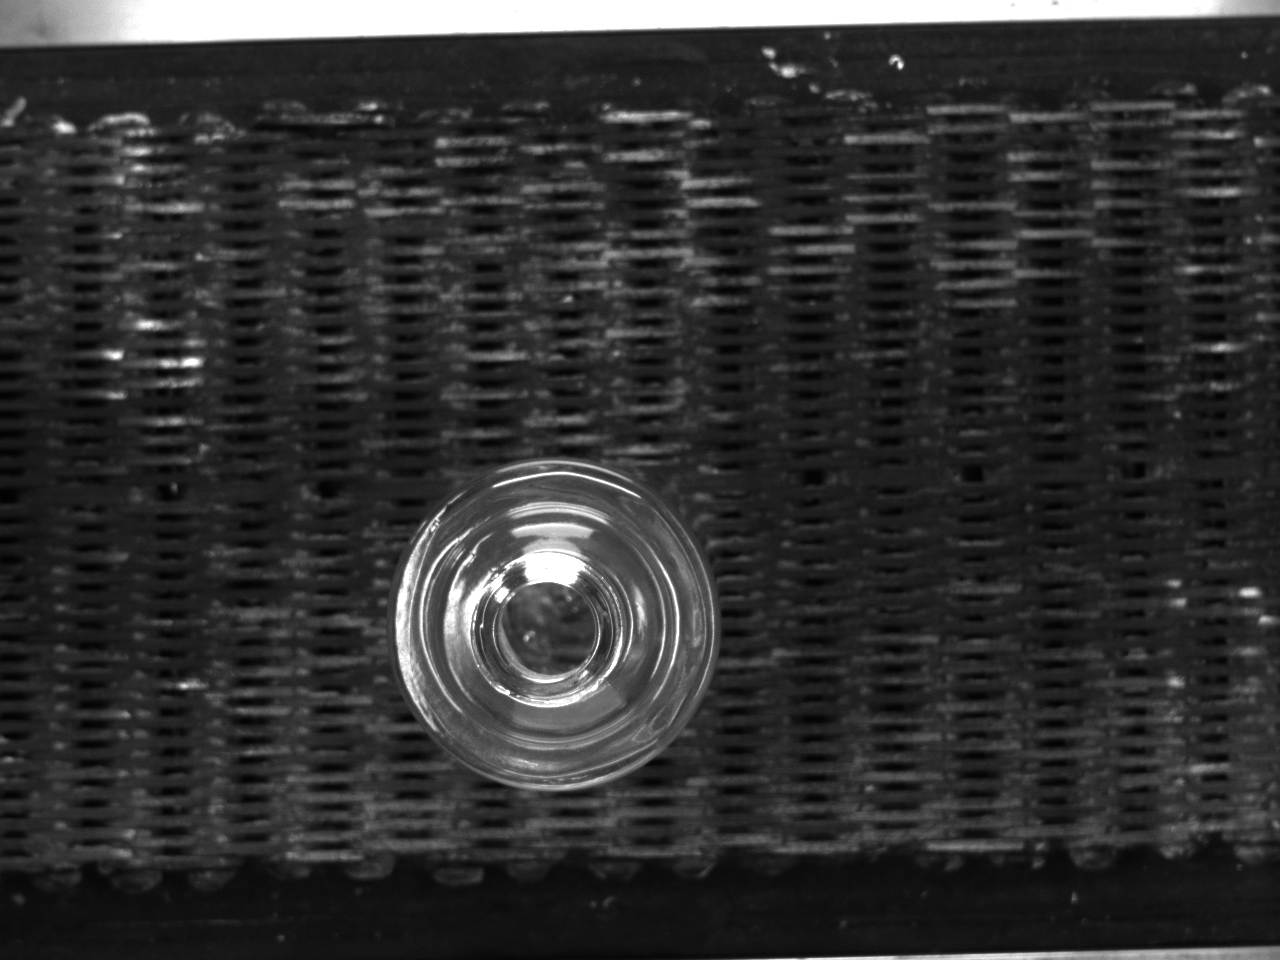bottleneck: (471, 550, 627, 707)
